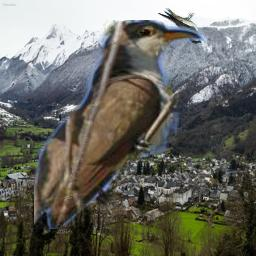Cuckoo: (34, 20, 241, 229)
Swallow: (158, 8, 202, 44)
